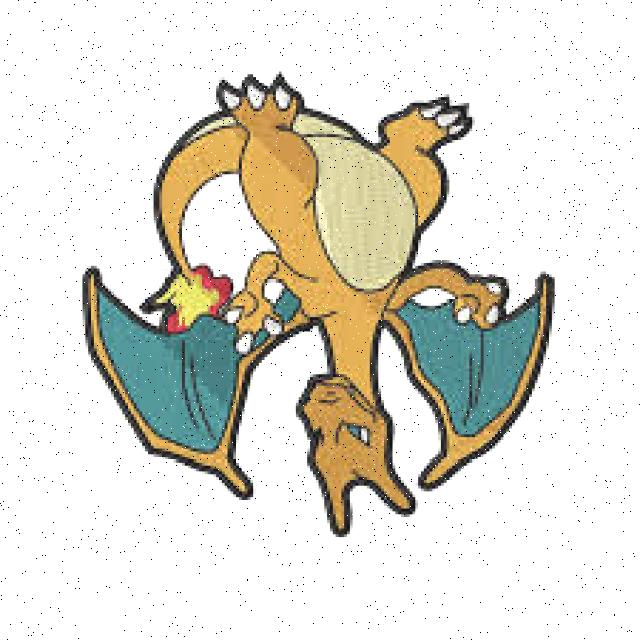charizard: (75, 76, 555, 537)
